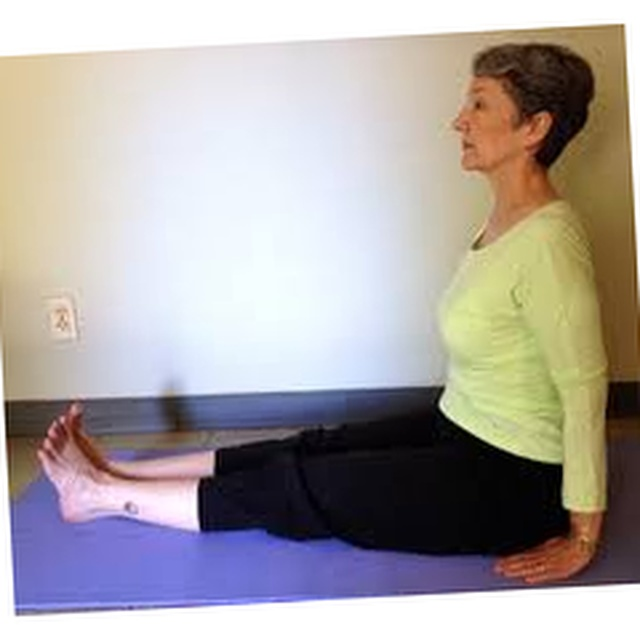Staff_Pose: (36, 41, 609, 586)
